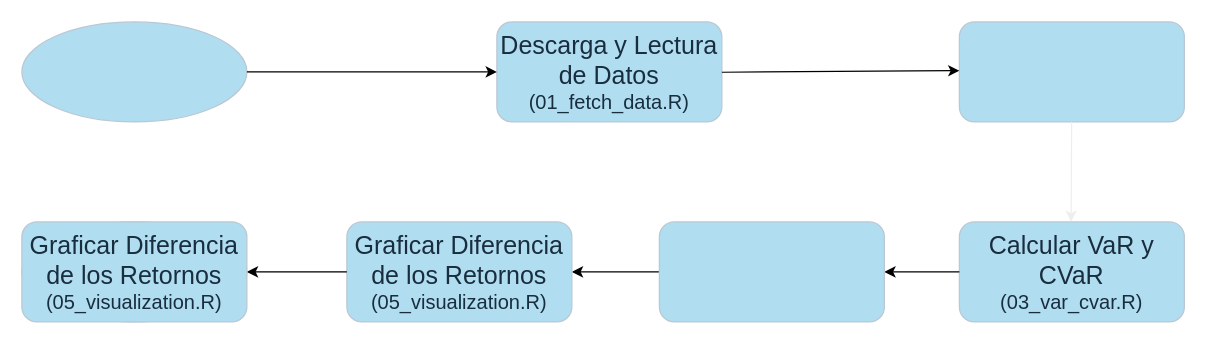
Some shapes in this 1206 by 344 pixel diagram are drawn without their labels. Each missing label, with the centre of its shape:
"Calcular Retornos Logarítmicos (02_calc_returns.R)" belongs at point (1071, 71).
"Calcular Tracking Error (04_tracking_error.R)" belongs at point (771, 271).
"Inicio Script" belongs at point (134, 71).
